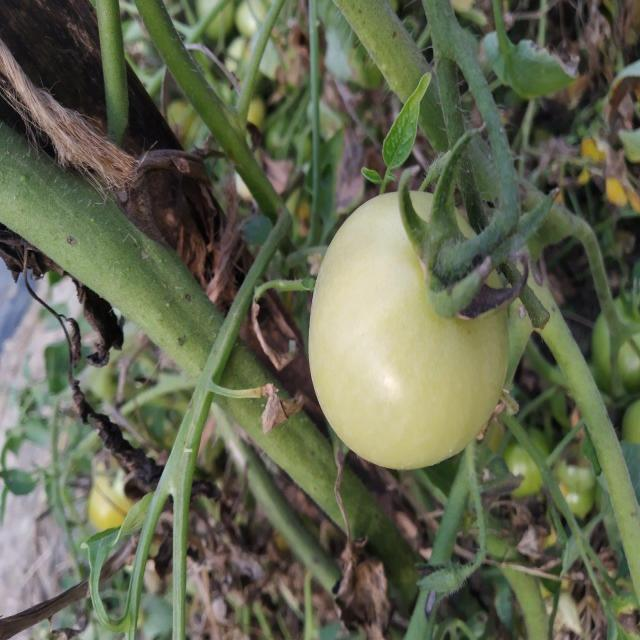Unripe: (308, 190, 513, 470)
